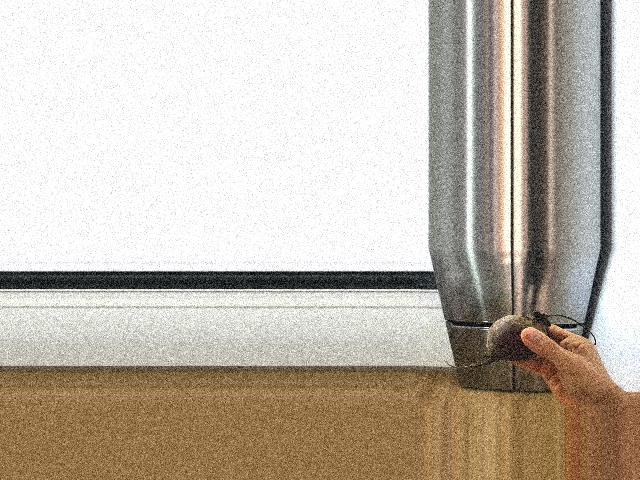beet: (442, 311, 595, 368)
